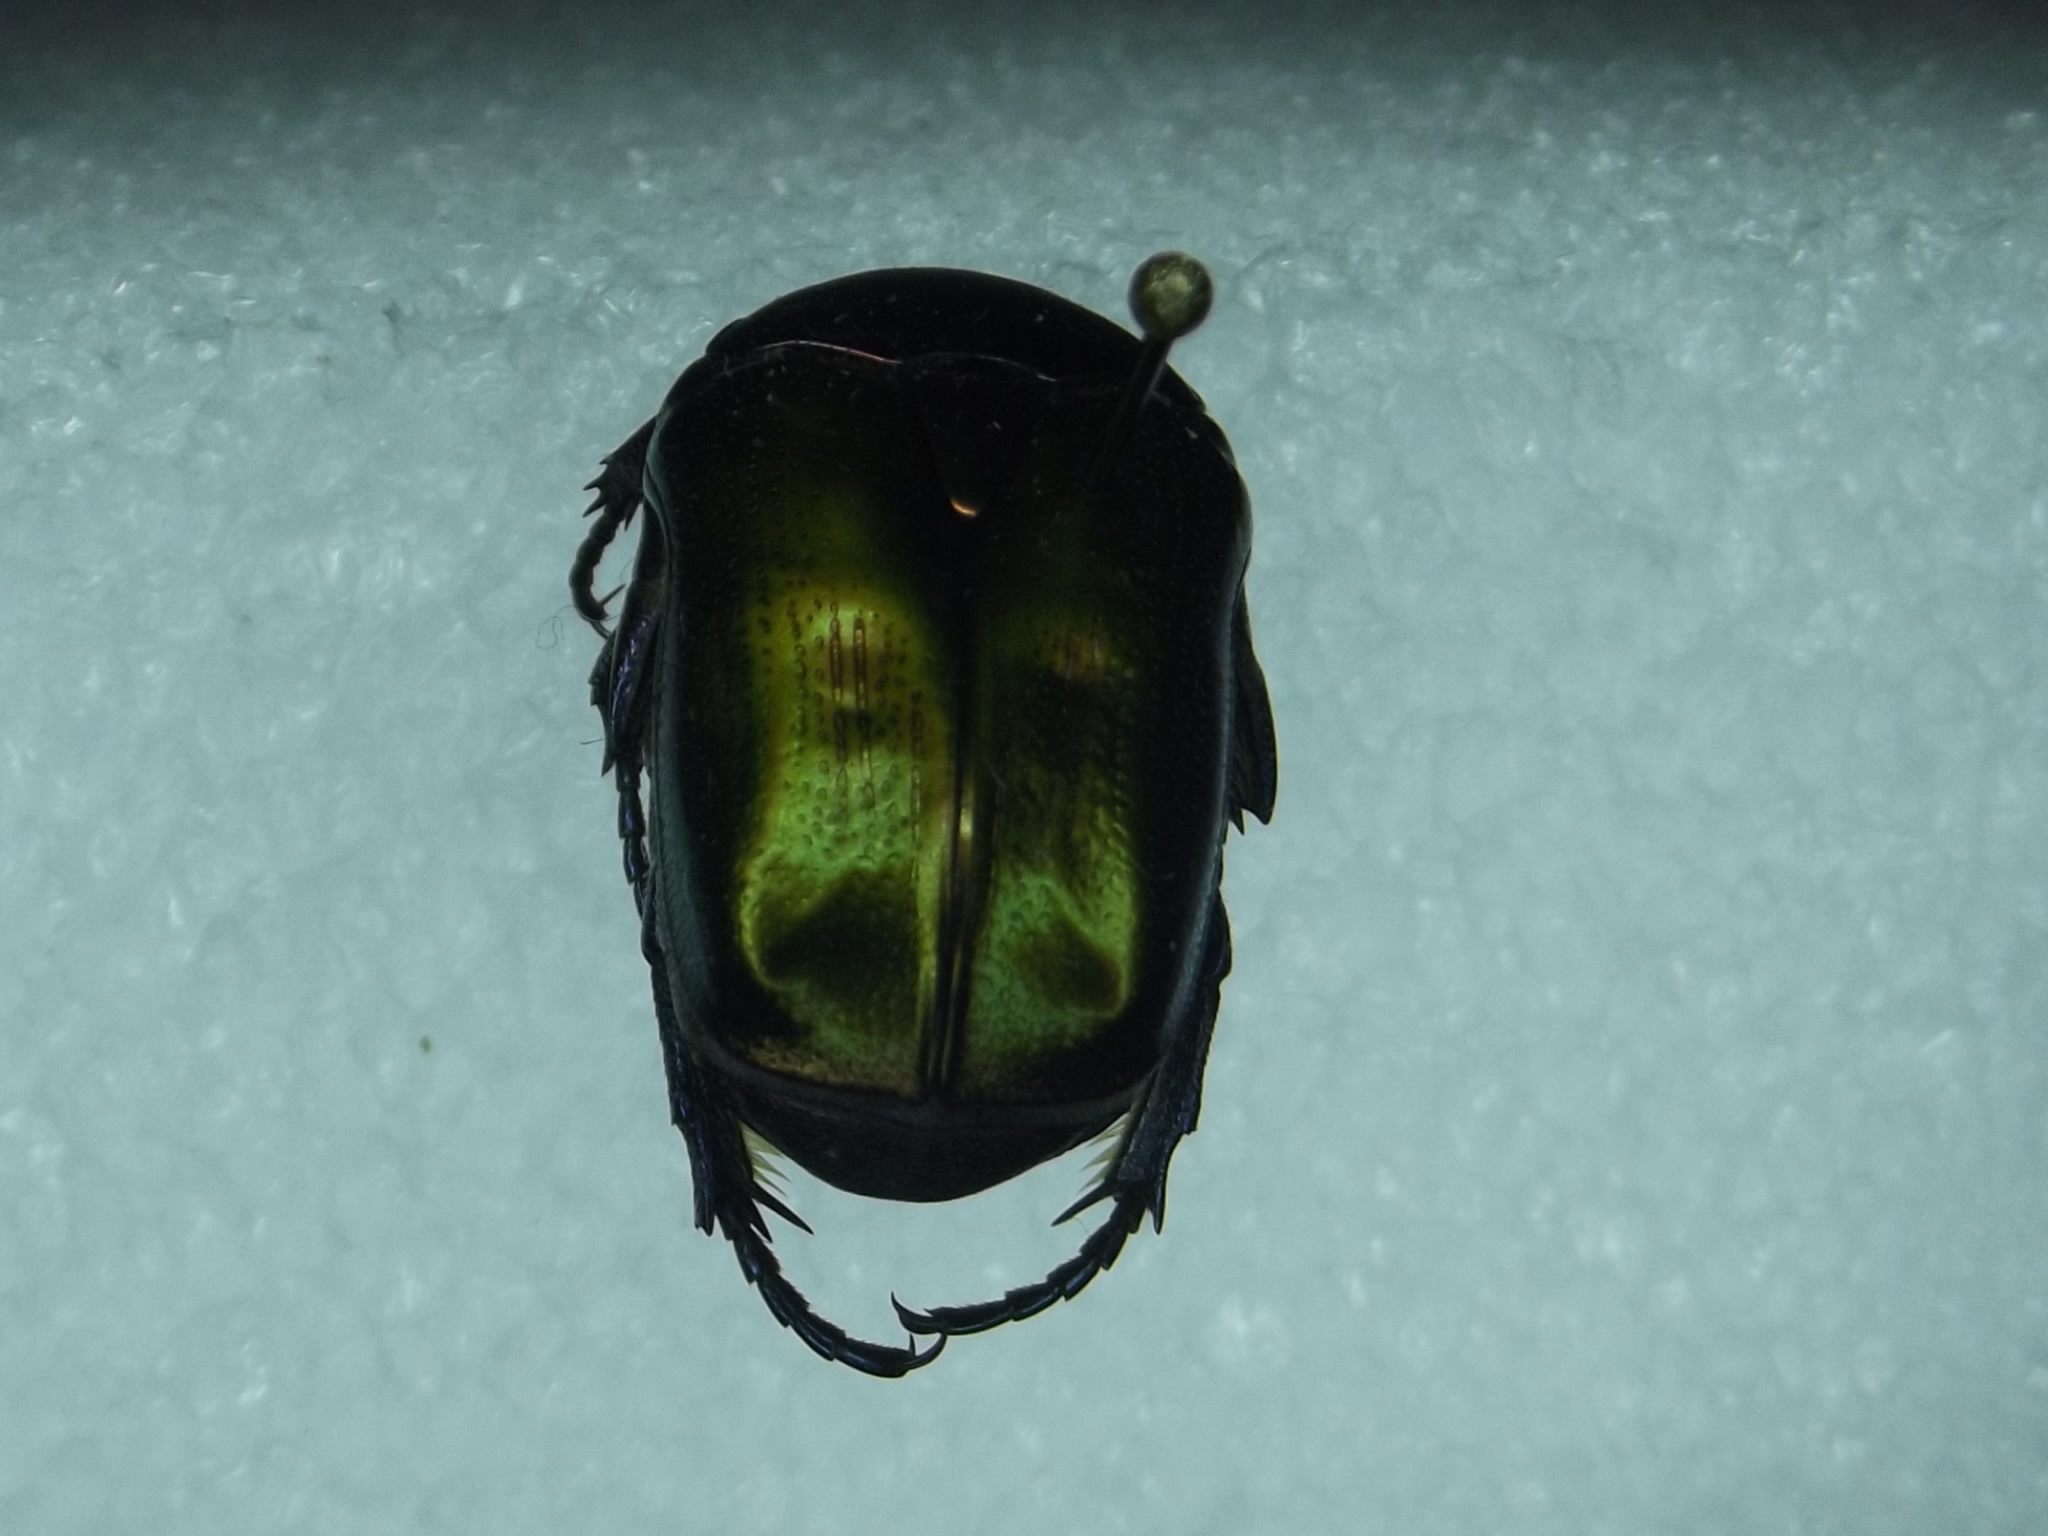Protaetia_cuprea_ignicollis: (560, 263, 1293, 1383)
